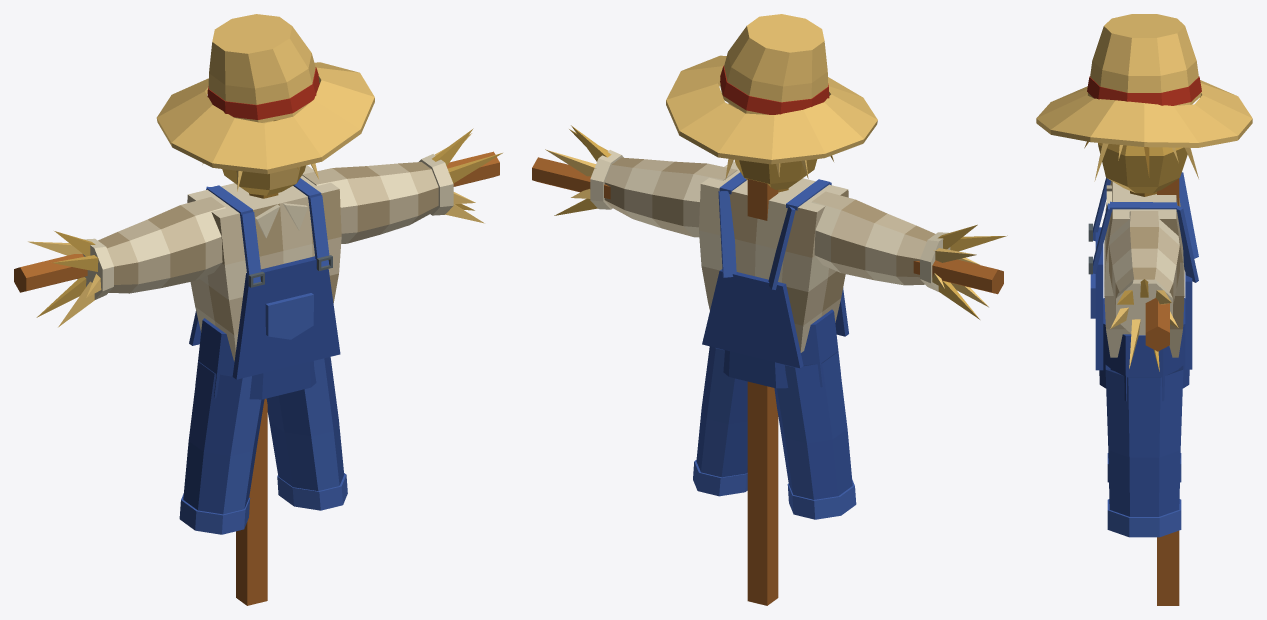
File: Scarecrow.glb
The picture shows the model from 3 angles, left to right: view 1: azimuth 30°, elevation 25°; view 2: azimuth 150°, elevation 25°; view 3: azimuth 270°, elevation 25°; orthographic projection. The views are drawn at different scales.
Parts seen in each view (by area): view 1: Scarecrow; view 2: Scarecrow; view 3: Scarecrow.
Part boxes in pixels (left/top/right/bottom): Scarecrow: left=14, top=14, right=502, bottom=605; Scarecrow: left=532, top=14, right=1007, bottom=605; Scarecrow: left=1036, top=14, right=1252, bottom=605.
Size of the model in its own units: 1.82 by 2.13 by 0.73.
